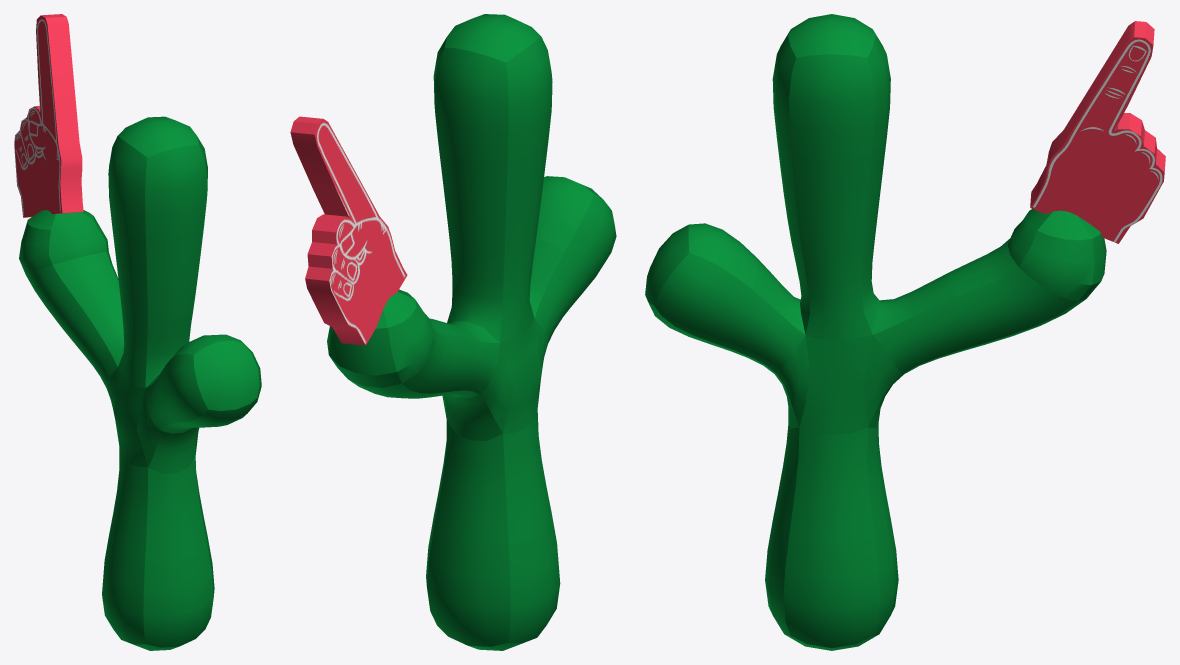
The model's file is Cactus_002.fbx.
The picture shows the model from 3 angles, left to right: view 1: azimuth 30°, elevation 25°; view 2: azimuth 150°, elevation 25°; view 3: azimuth 270°, elevation 25°; orthographic projection. The views are drawn at different scales.
Visible parts, largest first — view 1: Plane; view 2: Plane; view 3: Plane.
Part boxes in pixels (bbox=[...]): Plane: bbox=[14, 14, 261, 650]; Plane: bbox=[290, 14, 616, 650]; Plane: bbox=[645, 14, 1165, 650].
Bounding box in the file's own units: 45.85 × 239 × 179.
Materials: 3 (1 with a texture image).
